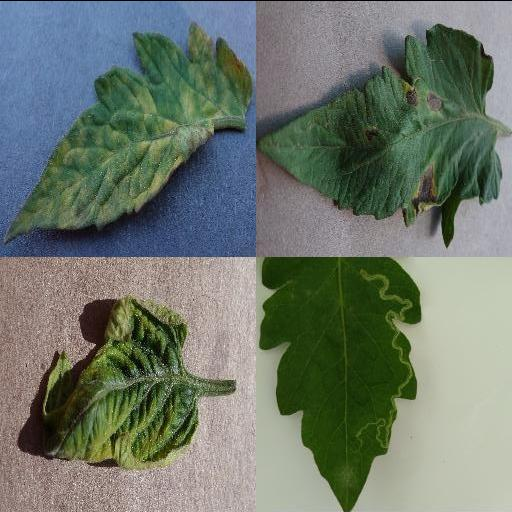Early Blight: (256, 21, 503, 246)
Leaf Miner: (259, 256, 424, 512)
Leaf Mold: (1, 20, 256, 244)
Yellow Leaf Curl Virus: (35, 294, 201, 473)
